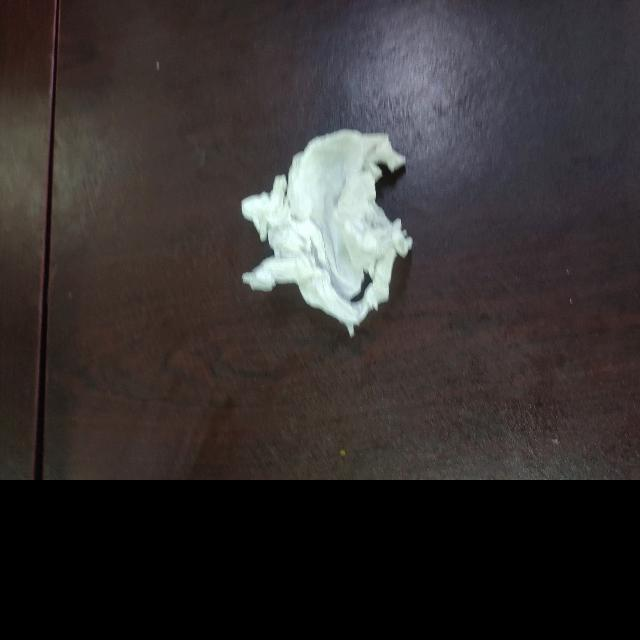kitchen paper: (240, 126, 423, 344)
